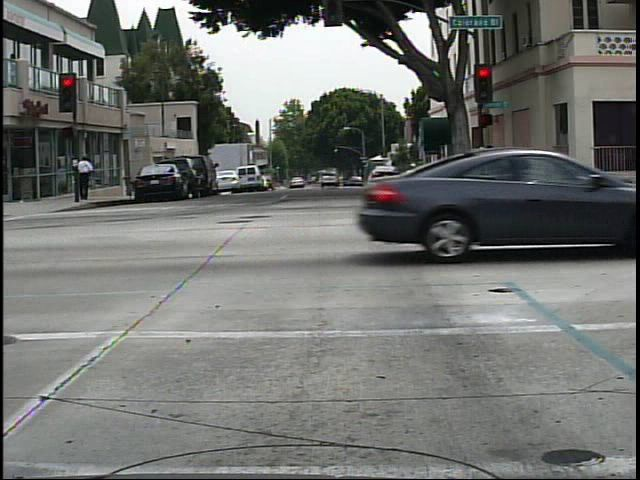person: (80, 147, 97, 200), (481, 136, 502, 151)
